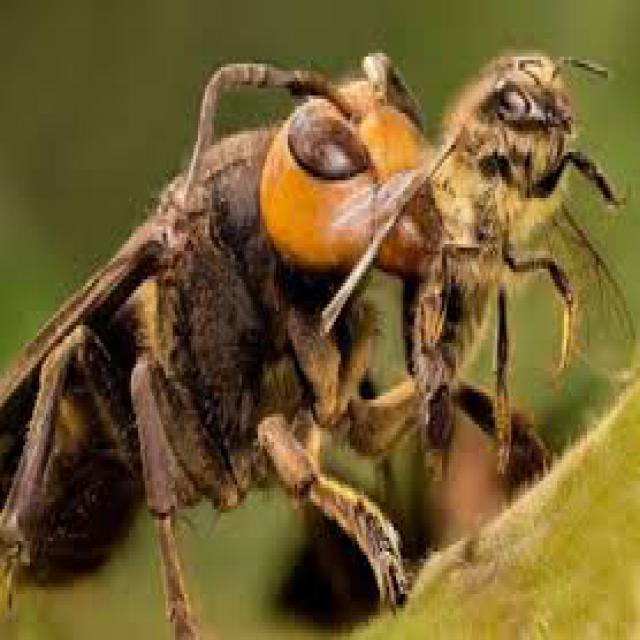Vespa Velutina: (0, 42, 445, 637)
